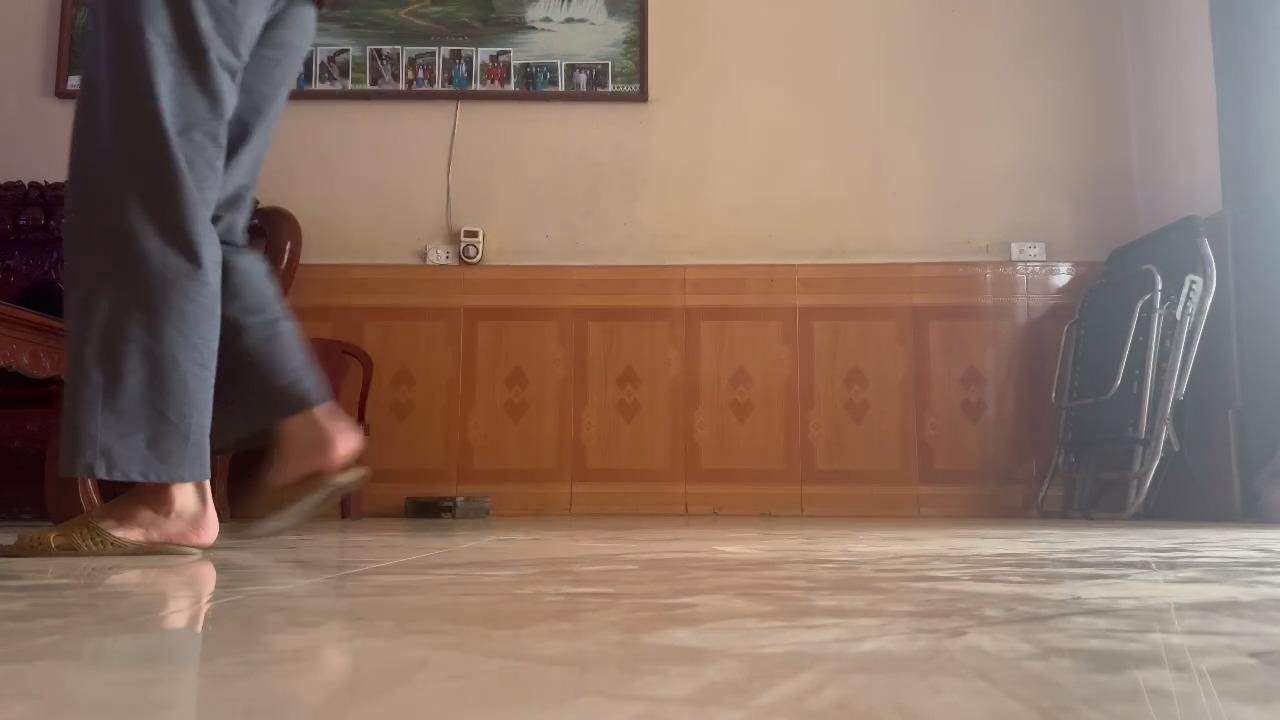no-boot: (0, 489, 232, 572), (237, 419, 383, 542)
